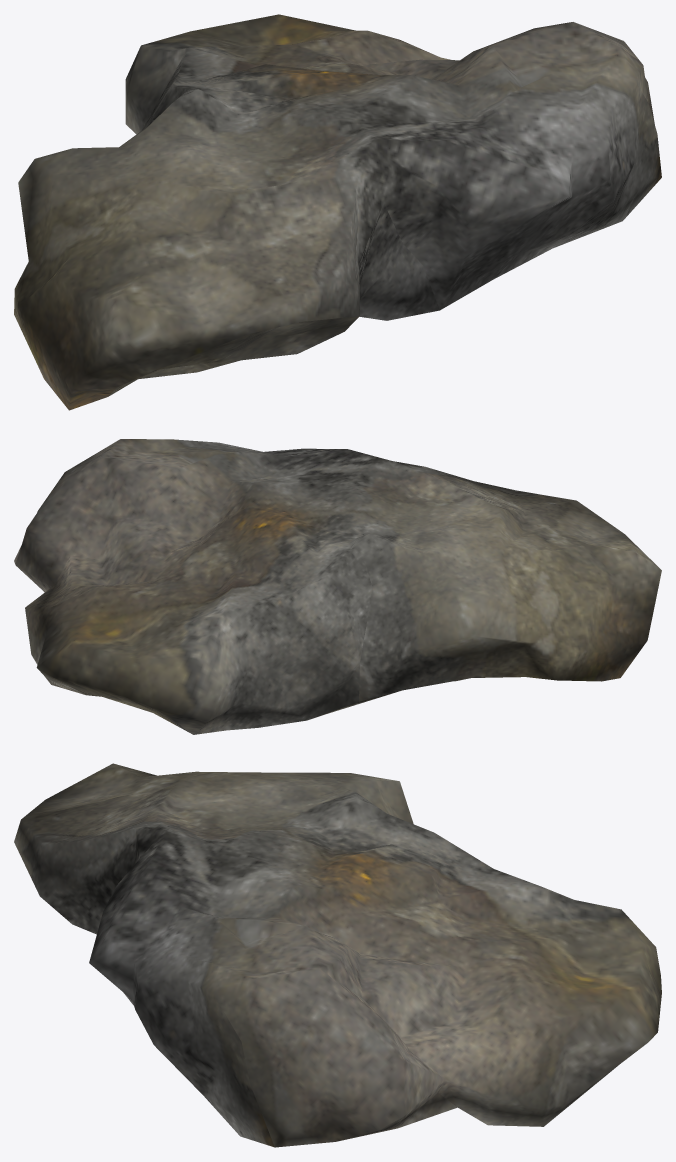
The model's file is rock 1.obj.
3 views of the same model, one above another, from view 1: azimuth 30°, elevation 25°; view 2: azimuth 150°, elevation 25°; view 3: azimuth 270°, elevation 25° (orthographic). The views are drawn at different scales.
Visible parts, largest first — view 1: Pavementblock.026; view 2: Pavementblock.026; view 3: Pavementblock.026.
Boxes of the visible parts, x1,y1,x2,y2 form: Pavementblock.026: (14, 14, 661, 410); Pavementblock.026: (14, 439, 661, 734); Pavementblock.026: (14, 763, 661, 1147).
Bounding box in the file's own units: 4.22 × 1.2 × 3.64.
